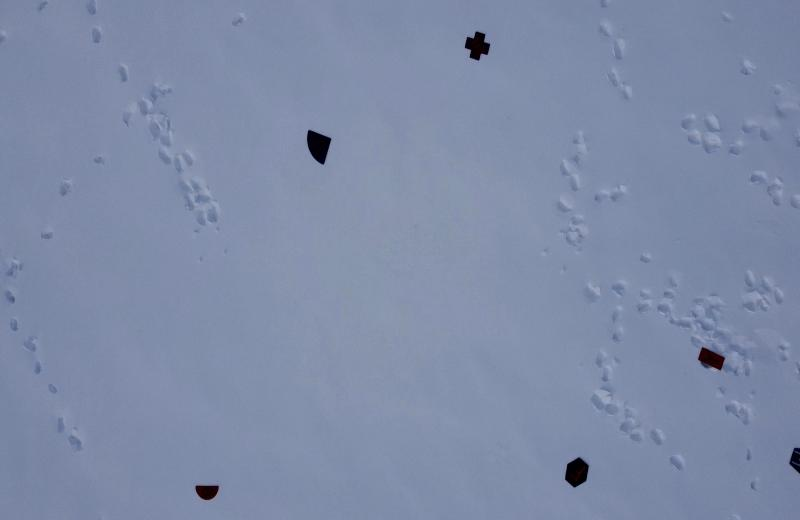Cross: (462, 29, 490, 65)
Hexagon: (562, 455, 594, 490)
Quarter Circle: (303, 122, 335, 170)
Rectangle: (1, 0, 800, 520), (699, 344, 727, 377)
Semi Circle: (193, 478, 220, 506)
